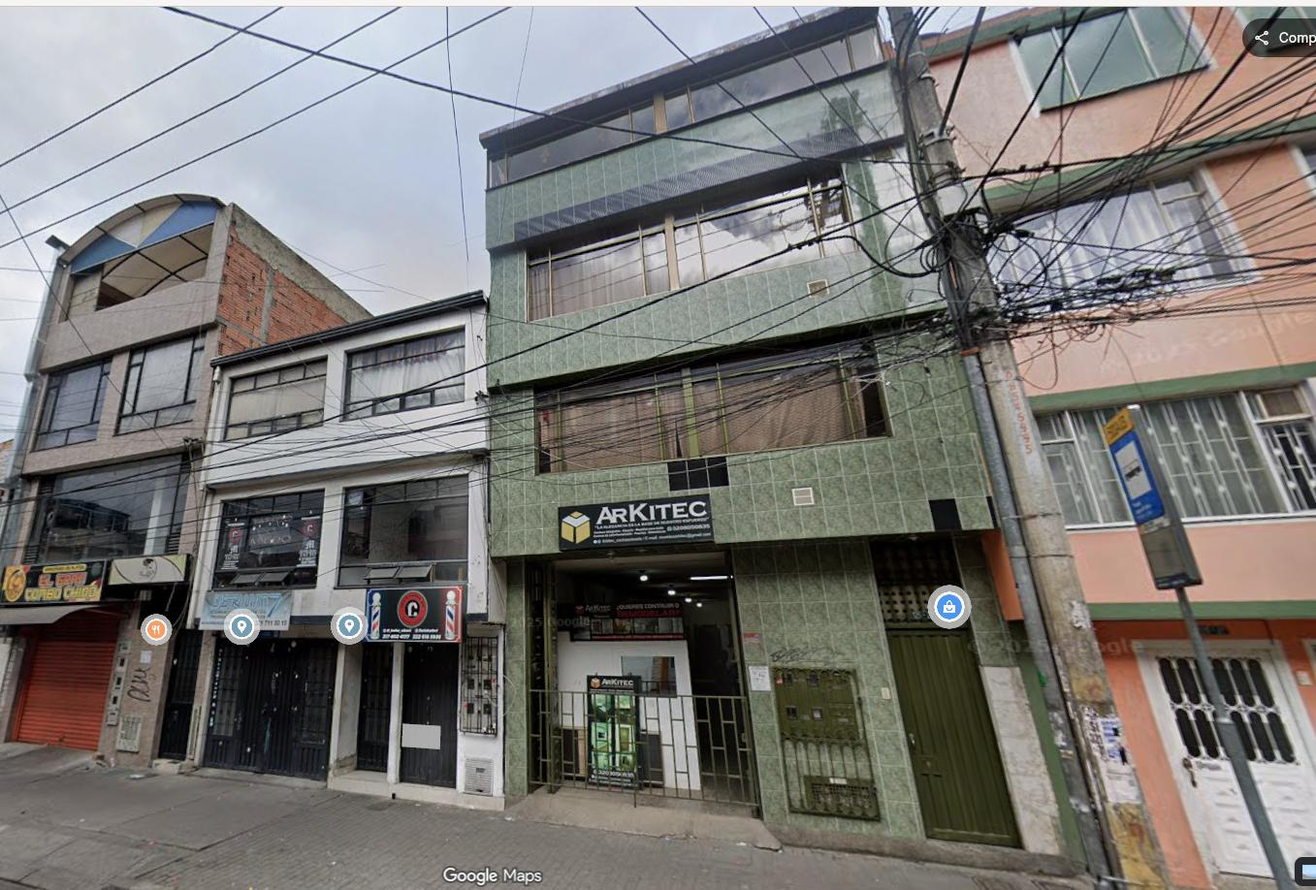casa: (473, 10, 1031, 847), (924, 7, 1315, 886), (0, 194, 369, 762), (159, 292, 503, 798)
poste: (888, 8, 1171, 889)
